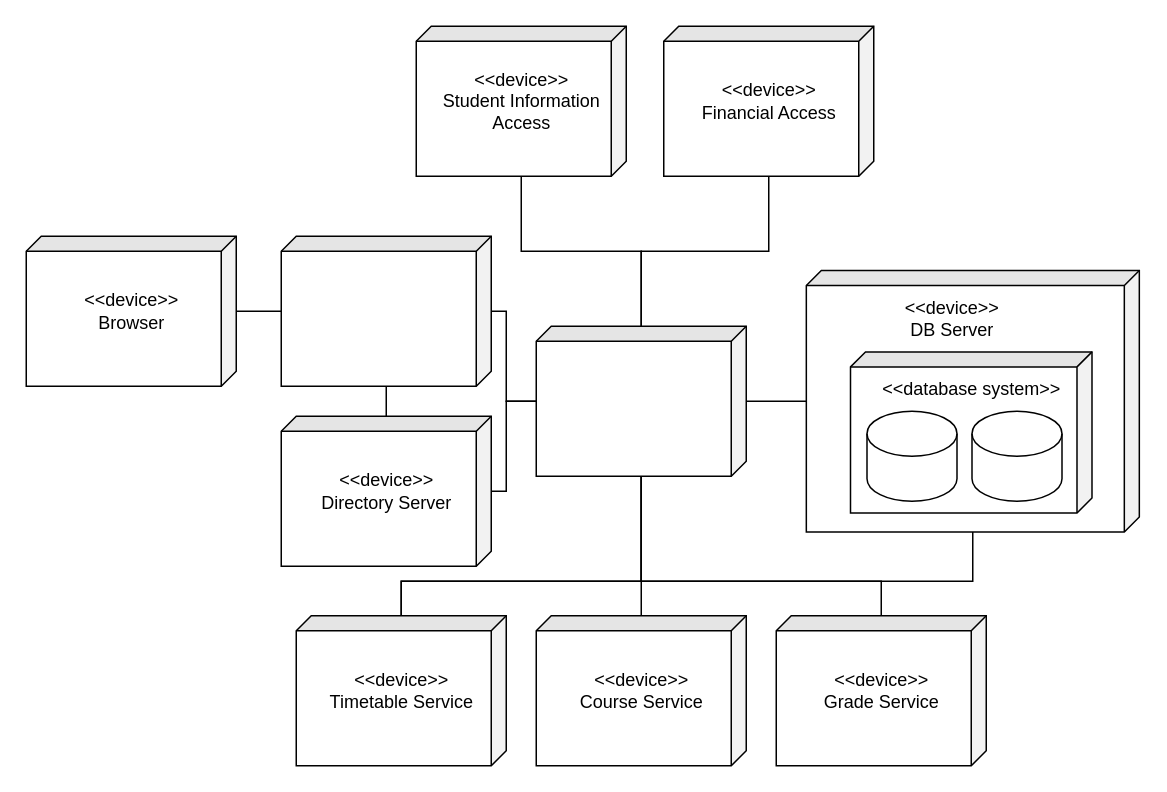
Image size: 1167x792. Some labels were removed from this diagram. The centre of each missing label's shape, as x and y in pixels:
"<<device>> App Core" goes at [640,400].
"<<device>> Web Server" goes at [385,310].
